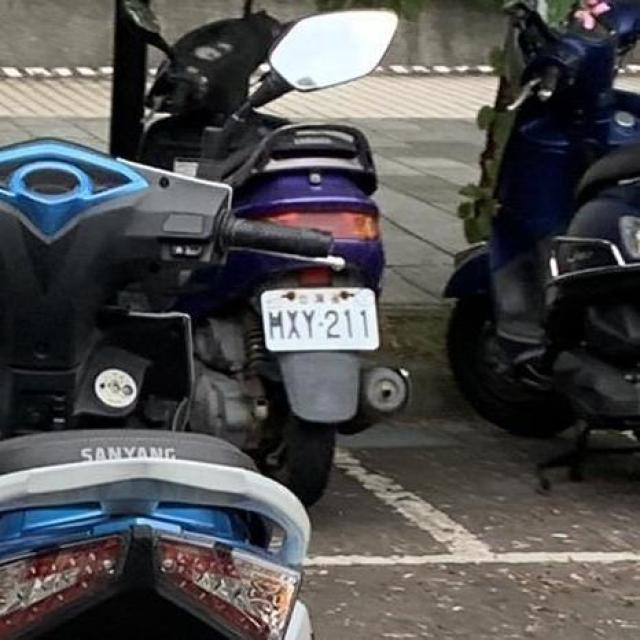W: (255, 278, 390, 357)
